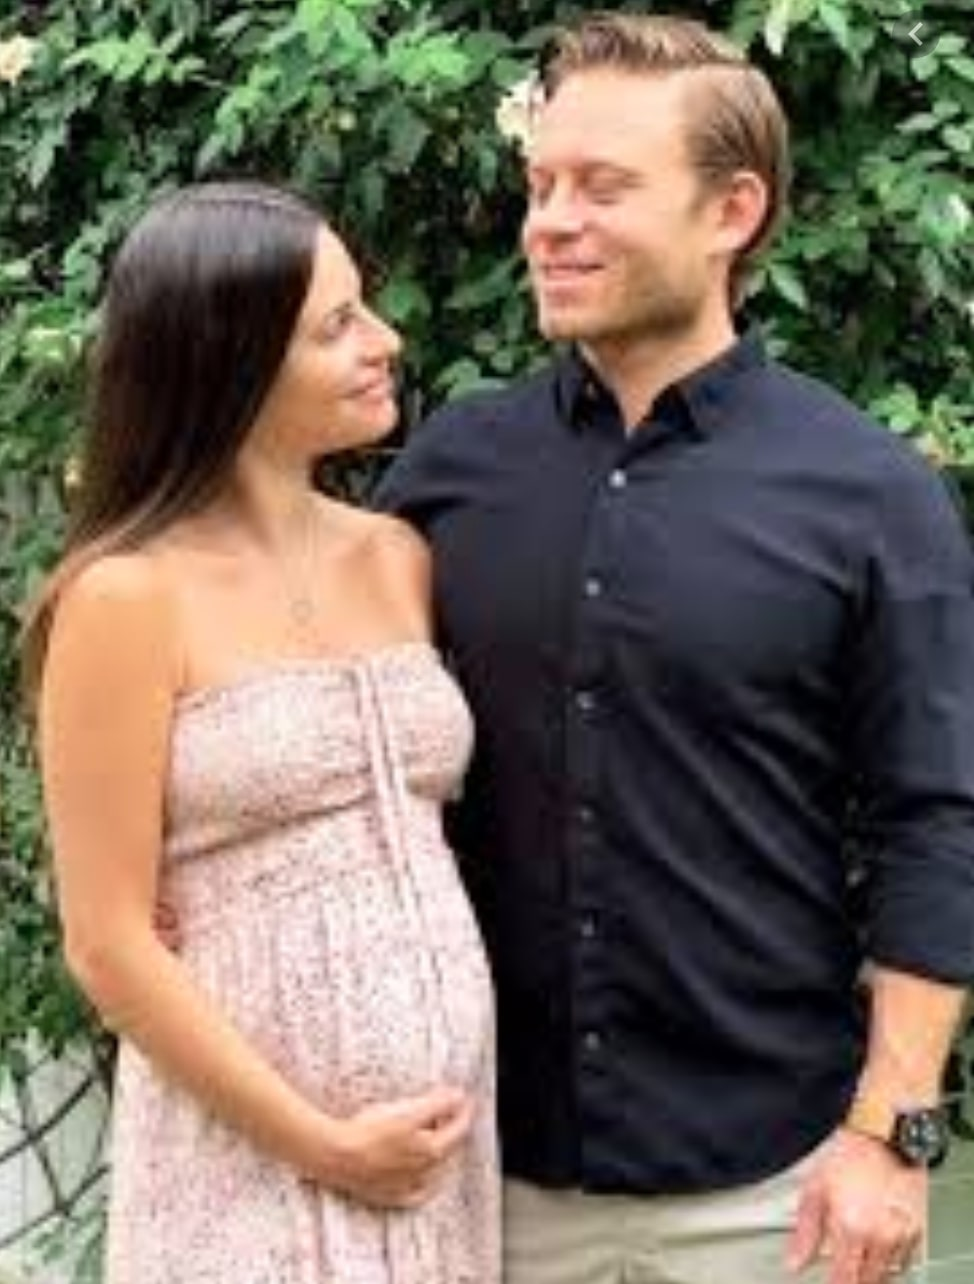Bad: (31, 17, 970, 1284)
